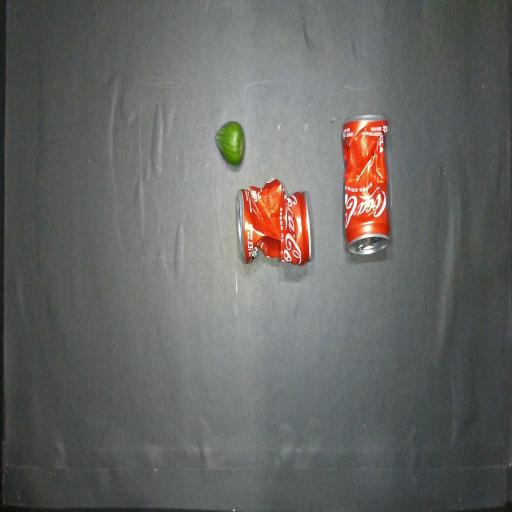higo: (215, 121, 245, 165)
lata_defectuoso: (342, 116, 390, 255), (236, 179, 313, 265)
